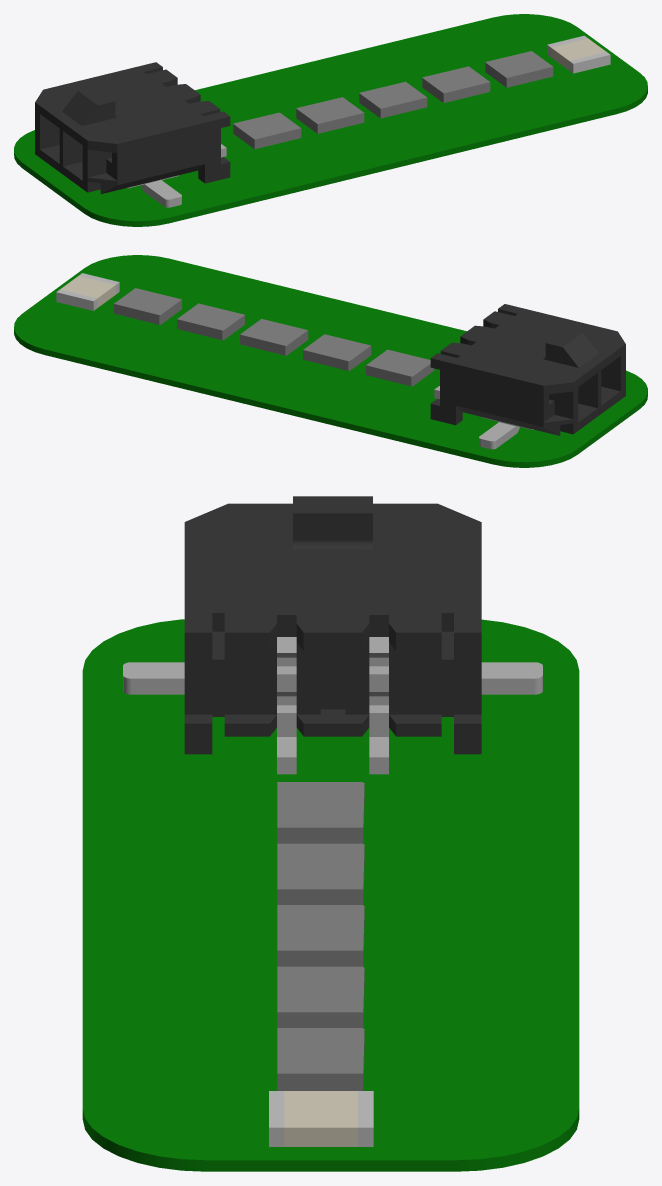
Rendered from central Brake Light.glb.
3 renders of one model, top to bottom at view 1: azimuth 30°, elevation 25°; view 2: azimuth 150°, elevation 25°; view 3: azimuth 270°, elevation 25°, orthographic. The views are drawn at different scales.
Parts seen in each view (by area): view 1: Open CASCADE STEP translator 7.5 1.1.1, P1, Extruded007, Extruded003, Extruded004, Extruded006, Extruded005, Extruded, 6621xx145021_MASSE, Extruded001; view 2: Open CASCADE STEP translator 7.5 1.1.1, P1, Extruded005, Extruded006, Extruded003, Extruded004, Extruded007, Extruded, 6621xx145021_MASSE001, Extruded002; view 3: Open CASCADE STEP translator 7.5 1.1.1, P1, Extruded003, Extruded004, Extruded006, Extruded005, Extruded007, Extruded, 6621xx145021_PIN, 6621xx145021_PIN001, 6621xx145021_MASSE, 6621xx145021_MASSE001.
Part boxes in pixels (<box>): Open CASCADE STEP translator 7.5 1.1.1: <box>14,14,647,226</box>; P1: <box>35,62,230,193</box>; Extruded007: <box>233,112,301,149</box>; Extruded003: <box>485,51,553,87</box>; Extruded004: <box>422,66,490,102</box>; Extruded006: <box>296,97,364,133</box>; Extruded005: <box>359,81,427,118</box>; Extruded: <box>551,38,606,70</box>; 6621xx145021_MASSE: <box>127,175,181,207</box>; Extruded001: <box>569,52,610,73</box>; Open CASCADE STEP translator 7.5 1.1.1: <box>14,255,647,467</box>; P1: <box>430,304,625,435</box>; Extruded005: <box>240,319,308,355</box>; Extruded006: <box>303,334,371,370</box>; Extruded003: <box>114,288,181,324</box>; Extruded004: <box>177,303,244,340</box>; Extruded007: <box>366,349,434,386</box>; Extruded: <box>60,276,115,307</box>; 6621xx145021_MASSE001: <box>479,417,533,449</box>; Extruded002: <box>56,289,97,310</box>; Open CASCADE STEP translator 7.5 1.1.1: <box>82,619,579,1171</box>; P1: <box>184,496,481,754</box>; Extruded003: <box>277,1028,364,1090</box>; Extruded004: <box>277,966,364,1028</box>; Extruded006: <box>277,843,364,905</box>; Extruded005: <box>277,905,364,966</box>; Extruded007: <box>277,782,364,843</box>; Extruded: <box>284,1091,357,1146</box>; 6621xx145021_PIN: <box>369,637,388,774</box>; 6621xx145021_PIN001: <box>277,637,296,774</box>; 6621xx145021_MASSE: <box>123,662,184,694</box>; 6621xx145021_MASSE001: <box>481,662,542,694</box>.
Size of the model in its own units: 0.0417 by 0.00602 by 0.0161.
